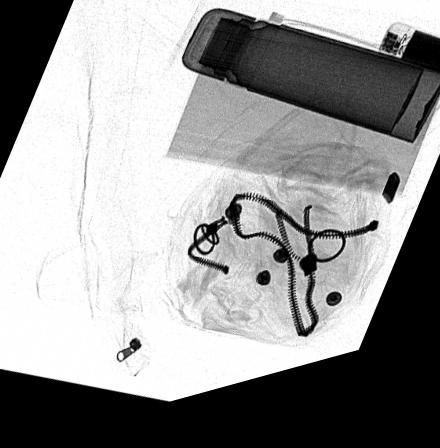Powerbank: (375, 41, 440, 100)
